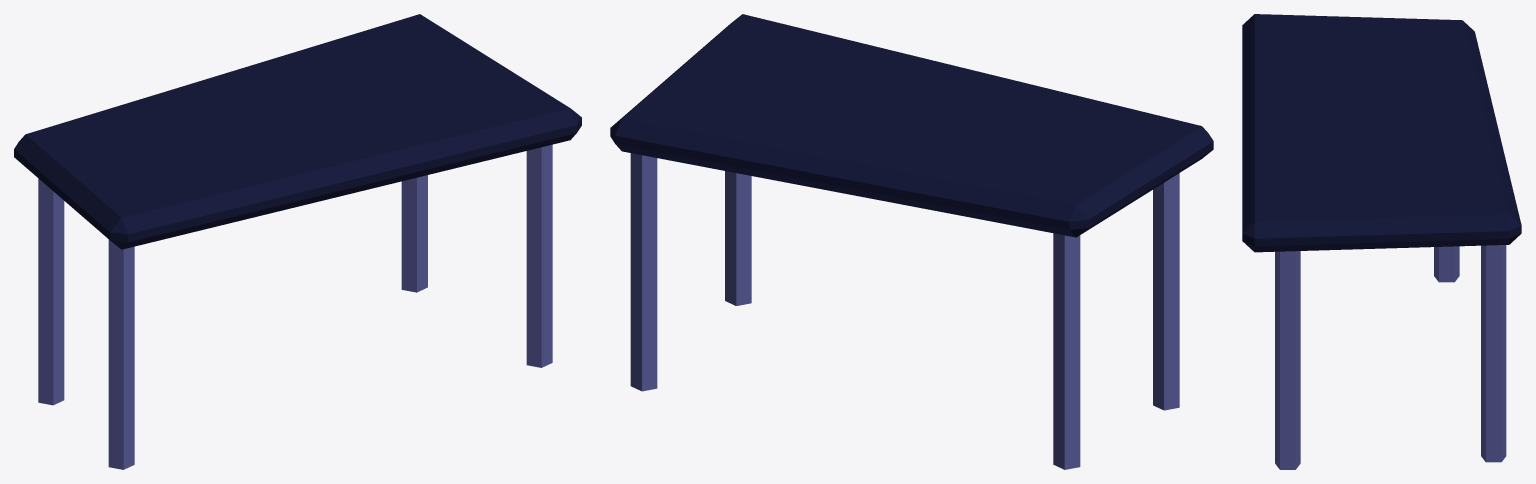
File: MDL_Mesa.FBX
The picture shows the model from 3 angles, left to right: view 1: azimuth 30°, elevation 25°; view 2: azimuth 150°, elevation 25°; view 3: azimuth 270°, elevation 25°; orthographic projection. The views are drawn at different scales.
Parts seen in each view (by area): view 1: Box025; view 2: Box025; view 3: Box025.
Boxes of the visible parts, left/top/right/bottom form: Box025: left=14, top=14, right=581, bottom=469; Box025: left=610, top=14, right=1213, bottom=469; Box025: left=1242, top=14, right=1521, bottom=469.
Bounding box in the file's own units: 70.85 × 37.78 × 38.28.
